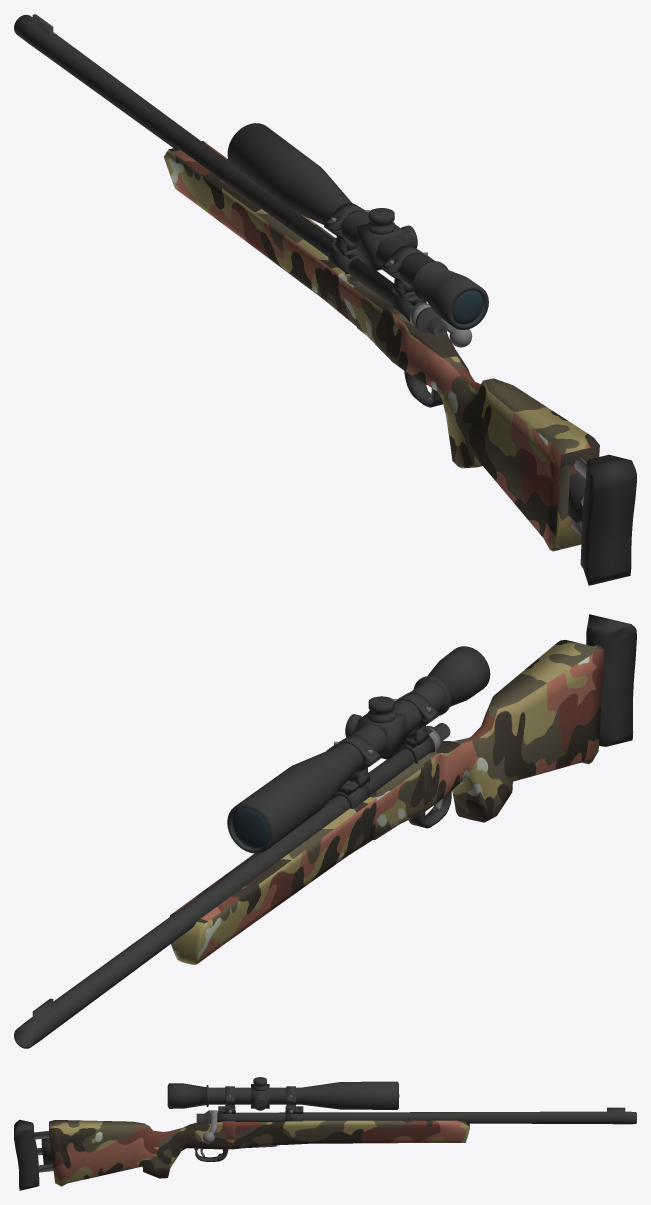
3 renders of one model, top to bottom at view 1: azimuth 30°, elevation 25°; view 2: azimuth 150°, elevation 25°; view 3: azimuth 270°, elevation 25°, orthographic. The views are drawn at different scales.
Parts seen in each view (by area): view 1: Blocage radial_g; view 2: Blocage radial_g; view 3: Blocage radial_g.
Part boxes in pixels (x1,y1,x2,y2): Blocage radial_g: [14, 14, 636, 585]; Blocage radial_g: [14, 614, 636, 1048]; Blocage radial_g: [14, 1077, 636, 1190].
Size of the model in its own units: 0.0682 by 0.2048 by 1.09.
5 materials, 1 textured.
